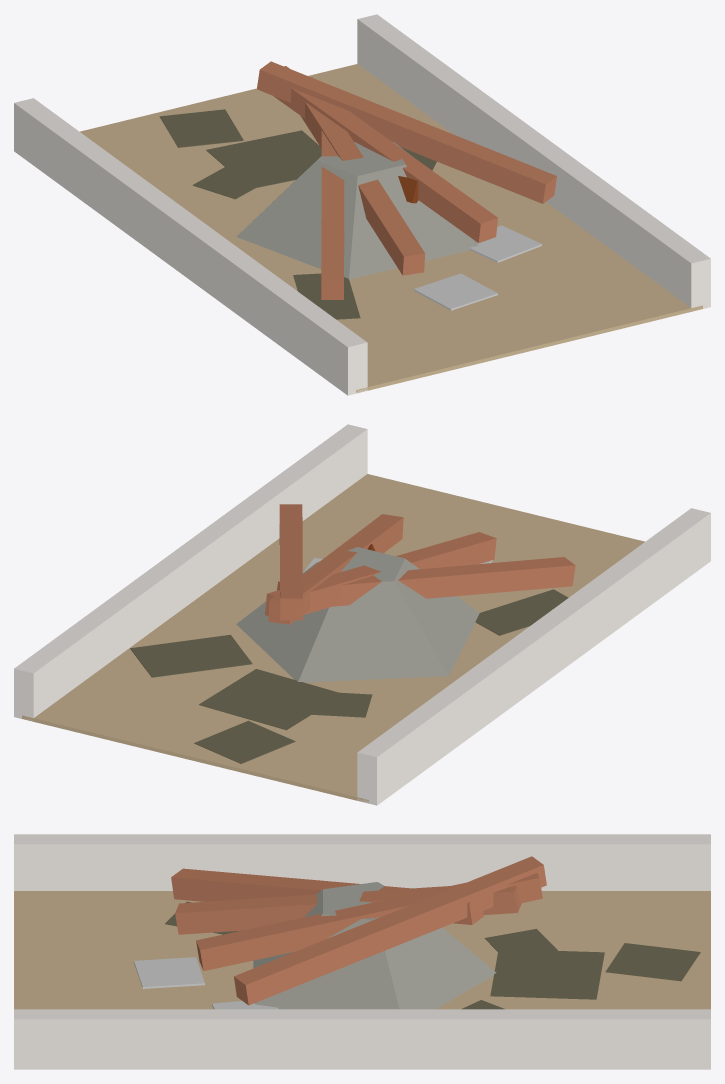
The model's file is SM_Solar_v2_Vigas_LOD1.fbx.
3 renders of one model, top to bottom at view 1: azimuth 30°, elevation 25°; view 2: azimuth 150°, elevation 25°; view 3: azimuth 270°, elevation 25°, orthographic. The views are drawn at different scales.
Visible parts, largest first — view 1: SM_sagunto_vivo_v7_LOD1; view 2: SM_sagunto_vivo_v7_LOD1; view 3: SM_sagunto_vivo_v7_LOD1.
Part boxes in pixels (x1,y1,x2,y2): SM_sagunto_vivo_v7_LOD1: (14,14,710,395); SM_sagunto_vivo_v7_LOD1: (14,424,710,805); SM_sagunto_vivo_v7_LOD1: (14,834,710,1069).
Bounding box in the file's own units: 6.28 × 1.74 × 10.
